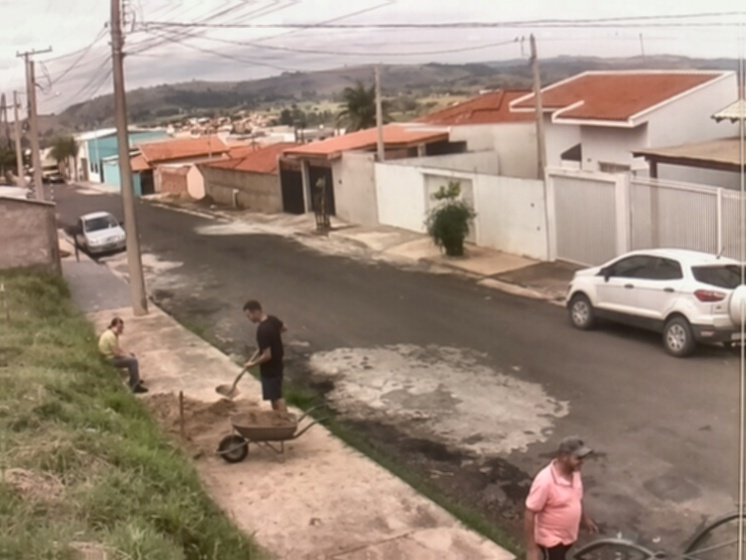person: (523, 435, 600, 560), (242, 298, 291, 414), (97, 316, 149, 393)
